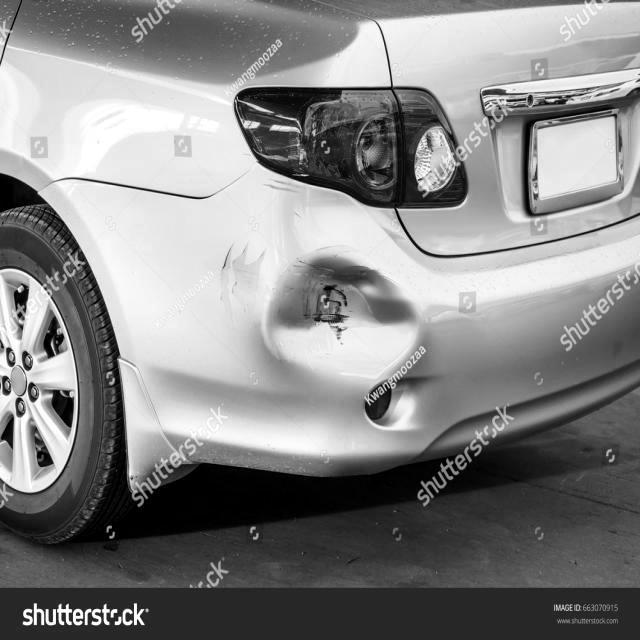rear-bumper-dent: (55, 173, 507, 492)
